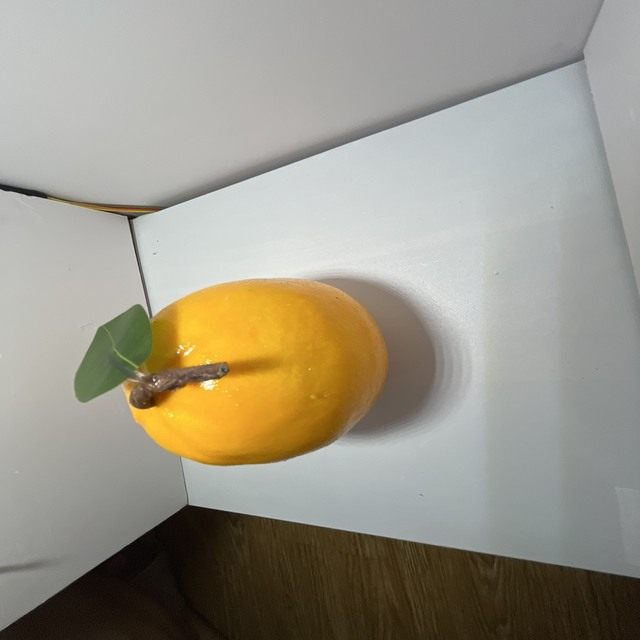Cam vang: (119, 271, 390, 471)
